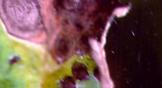Tomato Early blight leaf: (0, 0, 132, 88)
